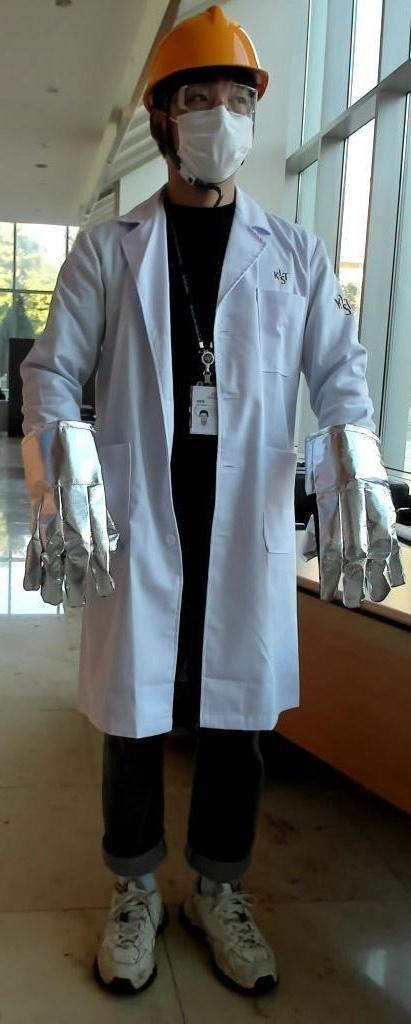lab_coat: (101, 219, 330, 725)
